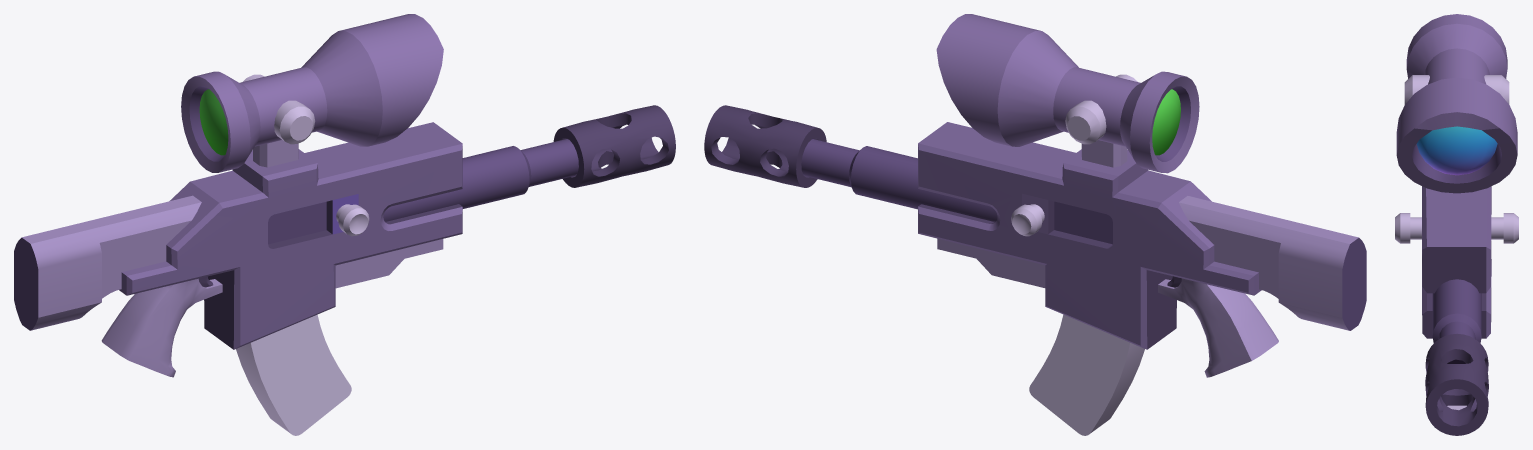
Rendered from Weapon12.fbx.
3 renders of one model, left to right at view 1: azimuth 30°, elevation 25°; view 2: azimuth 150°, elevation 25°; view 3: azimuth 270°, elevation 25°, orthographic.
Visible parts, largest first — view 1: Weapon12; view 2: Weapon12; view 3: Weapon12.
Part boxes in pixels (left/top/right/bottom): Weapon12: left=14, top=14, right=675, bottom=435; Weapon12: left=704, top=14, right=1366, bottom=435; Weapon12: left=1395, top=14, right=1518, bottom=435.
Size of the model in its own units: 100 by 56.95 by 16.7.
